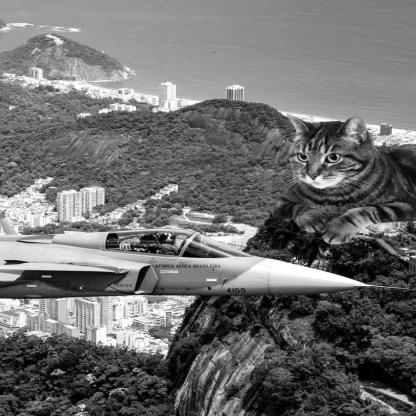JAS39: (2, 221, 413, 300)
